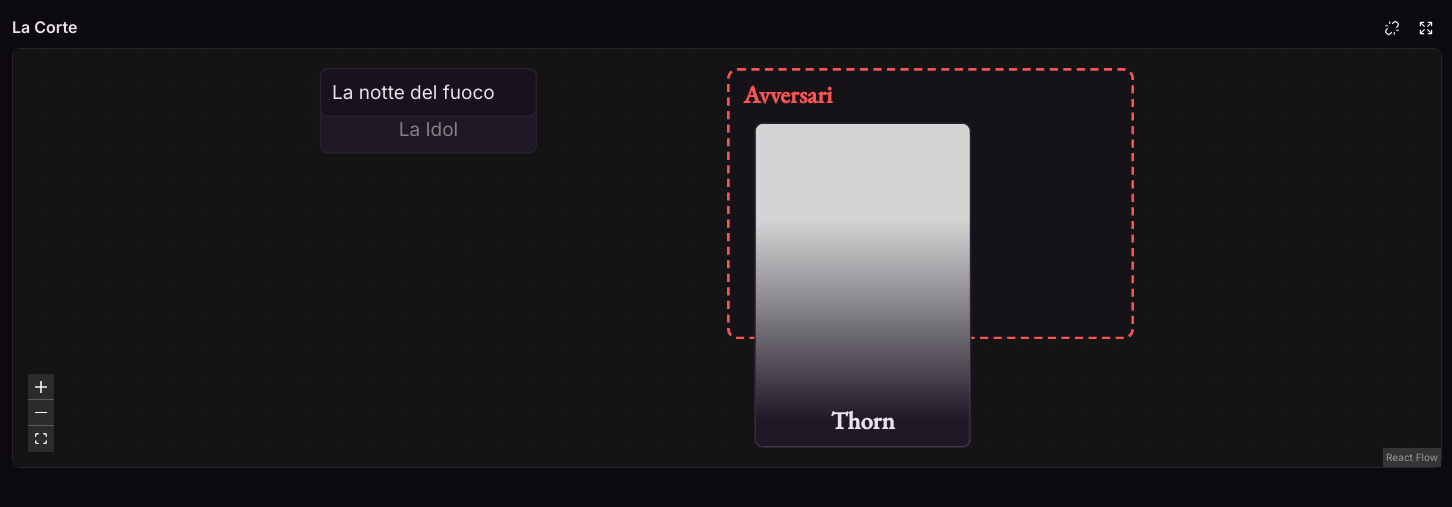
Scenario: LinkedMapPanel › shows why unlinking failed, and offers no unlink to who may not
Step 1. Click the button named "Togli dalla pagina del Documento" → (1392, 28), box [1376,12,1408,44]
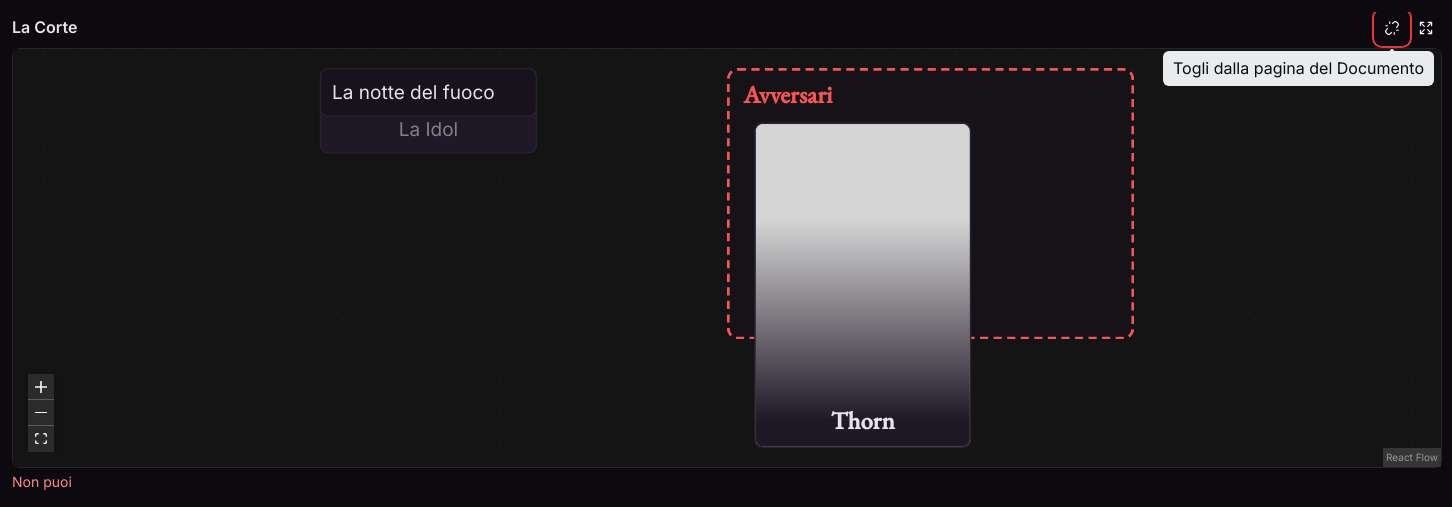
Expected: the text "Non puoi" is shown, [12,473,72,490]
